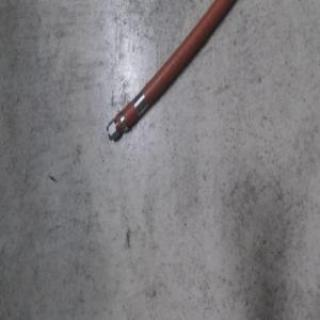Hosetrack_idkeyframe: (103, 0, 236, 142)
